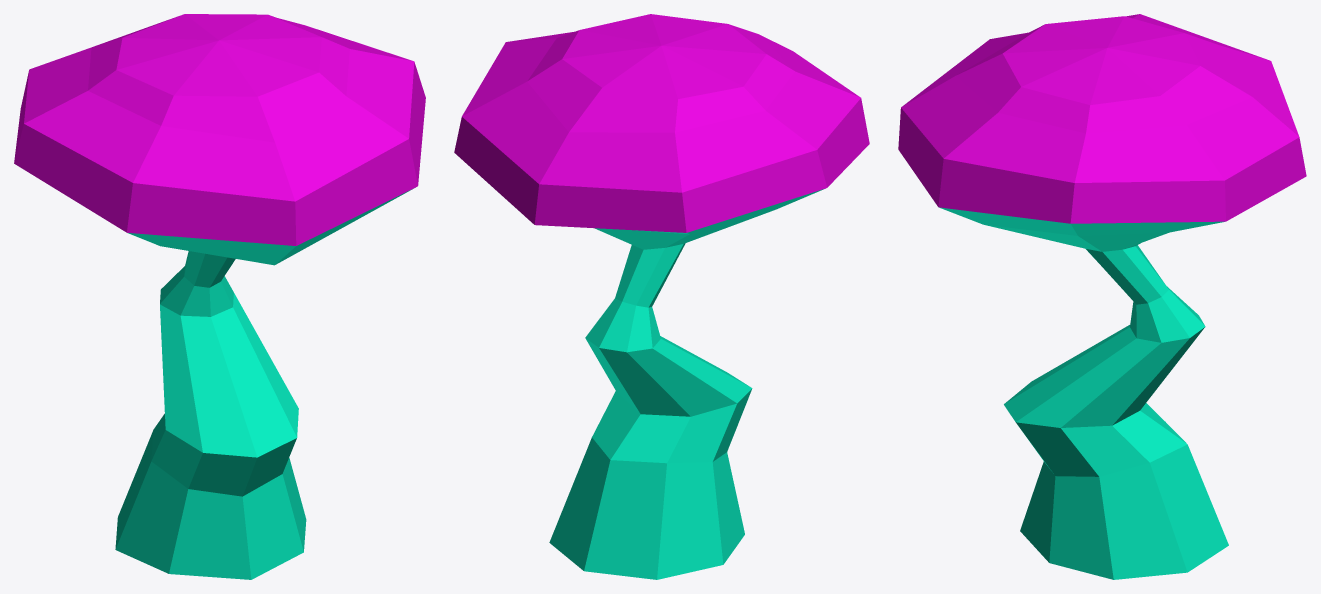
The model's file is GEO_mushroom_purpletop.fbx.
The picture shows the model from 3 angles, left to right: view 1: azimuth 30°, elevation 25°; view 2: azimuth 150°, elevation 25°; view 3: azimuth 270°, elevation 25°; orthographic projection. The views are drawn at different scales.
Parts seen in each view (by area): view 1: GEO_mushroom_purpletop; view 2: GEO_mushroom_purpletop; view 3: GEO_mushroom_purpletop.
Boxes of the visible parts, box(x1,y1,x2,y2) form: GEO_mushroom_purpletop: box(14, 14, 425, 579); GEO_mushroom_purpletop: box(454, 14, 869, 579); GEO_mushroom_purpletop: box(898, 14, 1306, 579).
Bounding box in the file's own units: 223 × 285 × 216.
